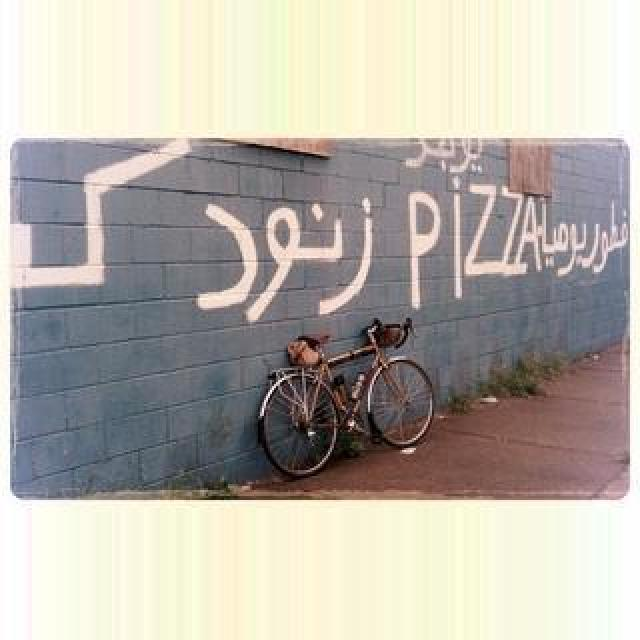Person: (259, 315, 437, 479)
